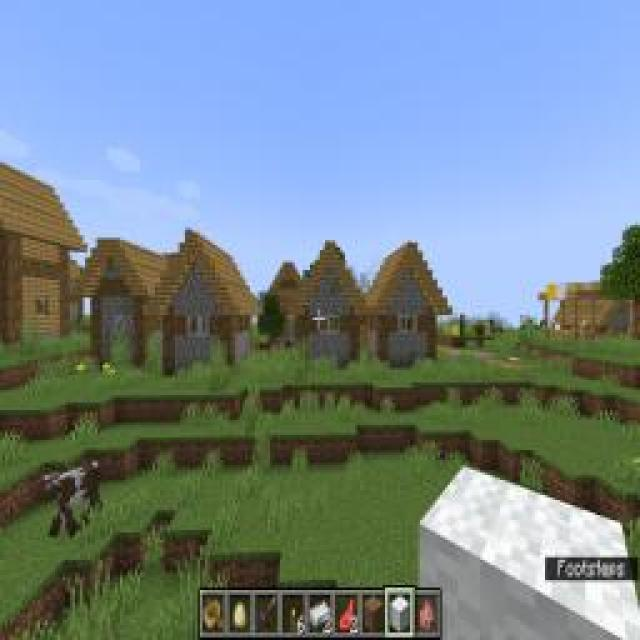Villager: (146, 225, 259, 370), (70, 228, 162, 364), (368, 235, 452, 363), (289, 241, 369, 364)
